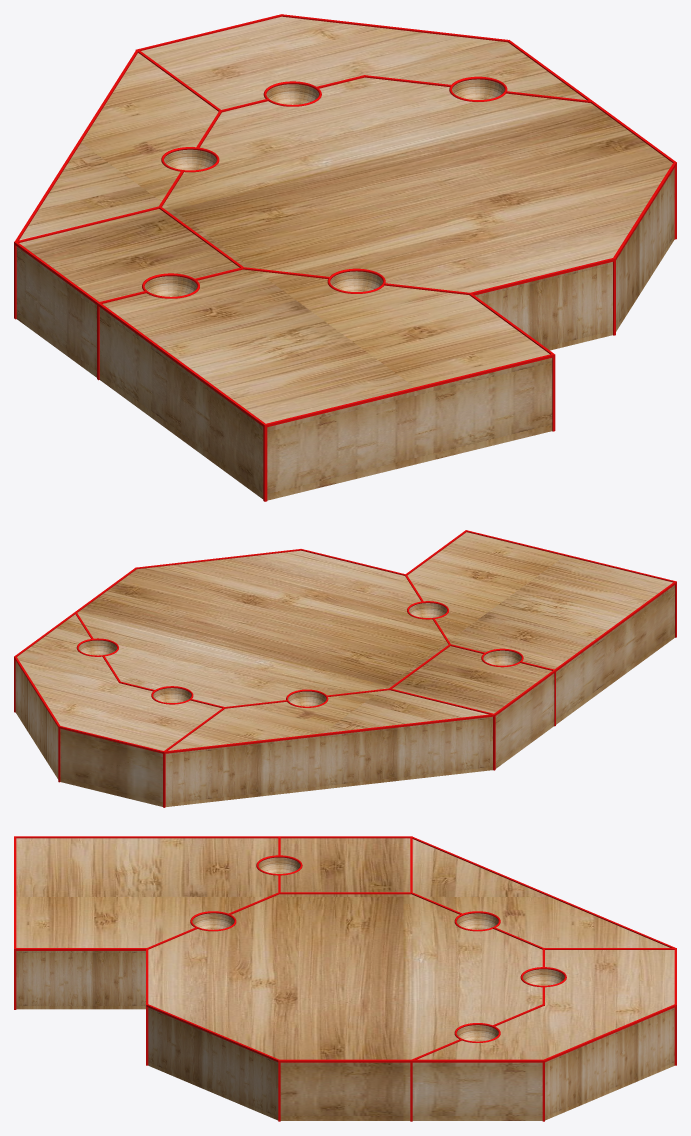
The model's file is floor2Architecture.fbx.
3 views of the same model, one above another, from view 1: azimuth 30°, elevation 25°; view 2: azimuth 150°, elevation 25°; view 3: azimuth 270°, elevation 25° (orthographic). The views are drawn at different scales.
Parts seen in each view (by area): view 1: body, Cube; view 2: body, Cube; view 3: body, Cube.
Part boxes in pixels (box(x1,y1,x2,y2)): body: box(16, 16, 674, 500); Cube: box(14, 14, 676, 501); body: box(15, 532, 674, 806); Cube: box(14, 530, 676, 807); body: box(16, 838, 674, 1120); Cube: box(14, 836, 676, 1121).
Size of the model in its own units: 2410 by 305 by 3010.
2 materials, 1 textured.
